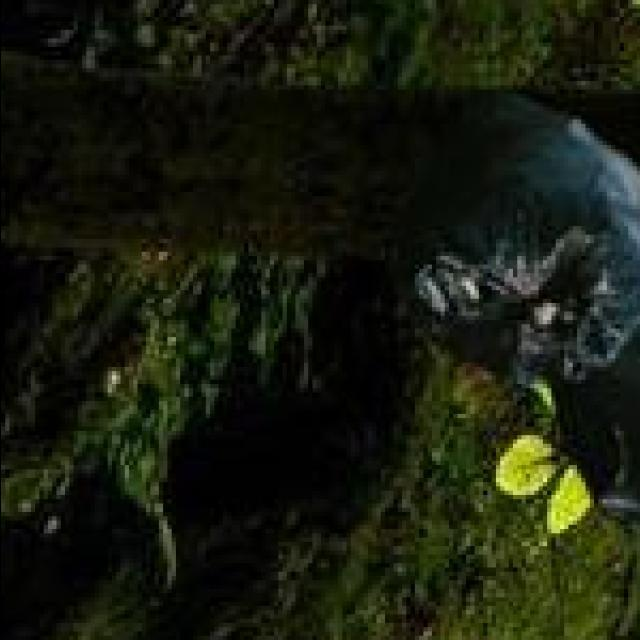Trashbag: (391, 83, 640, 397)
